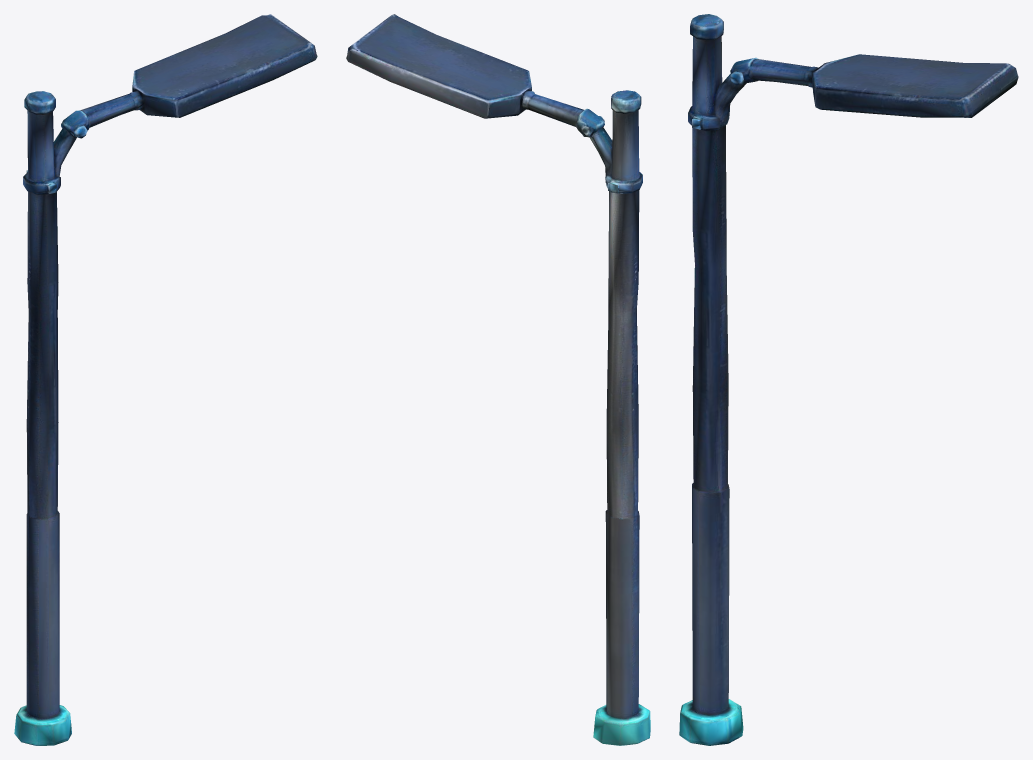
File: prop_streetlight.glb
The picture shows the model from 3 angles, left to right: view 1: azimuth 30°, elevation 25°; view 2: azimuth 150°, elevation 25°; view 3: azimuth 330°, elevation 25°; orthographic projection. The views are drawn at different scales.
Parts seen in each view (by area): view 1: light; view 2: light; view 3: light.
Boxes of the visible parts, box(x1,y1,x2,y2) form: light: box(14, 14, 317, 745); light: box(346, 14, 650, 745); light: box(679, 14, 1018, 745).
Bounding box in the file's own units: 3.62 × 8 × 1.08.
Materials: 1 (1 with a texture image).
